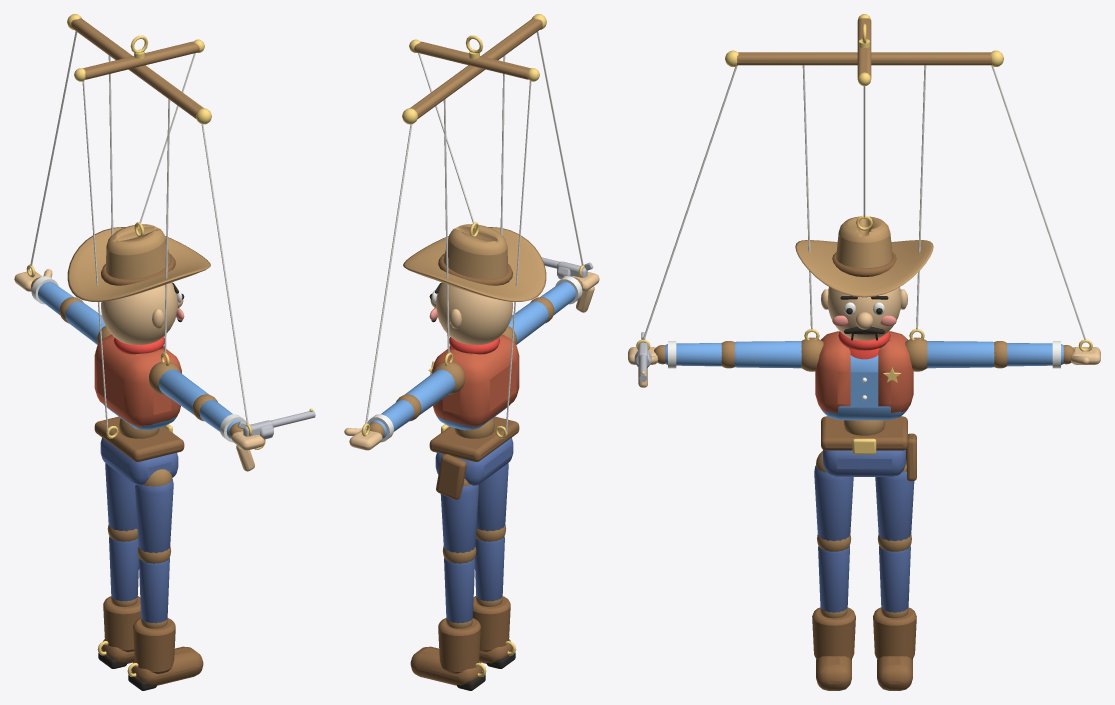
File: Kovboy.fbx
3 renders of one model, left to right at view 1: azimuth 30°, elevation 25°; view 2: azimuth 150°, elevation 25°; view 3: azimuth 270°, elevation 25°, orthographic.
Visible parts, largest first — view 1: Kovboy, Kovboy_Tutacak, Kovboy_Ipler, Kovboy_Altipatlar; view 2: Kovboy, Kovboy_Tutacak, Kovboy_Ipler, Kovboy_Altipatlar; view 3: Kovboy, Kovboy_Tutacak, Kovboy_Ipler.
Boxes of the visible parts, x1=… form: Kovboy: x1=14, y1=222, x2=264, y2=690; Kovboy_Tutacak: x1=67, y1=14, x2=211, y2=124; Kovboy_Ipler: x1=30, y1=31, x2=248, y2=431; Kovboy_Altipatlar: x1=236, y1=408, x2=315, y2=471; Kovboy: x1=344, y1=222, x2=599, y2=690; Kovboy_Tutacak: x1=402, y1=14, x2=546, y2=124; Kovboy_Ipler: x1=365, y1=31, x2=583, y2=431; Kovboy_Altipatlar: x1=541, y1=257, x2=594, y2=312; Kovboy: x1=628, y1=215, x2=1100, y2=690; Kovboy_Tutacak: x1=725, y1=14, x2=1003, y2=86; Kovboy_Ipler: x1=642, y1=65, x2=1086, y2=340.
Size of what is drawn, in the model's own units: 55.5 by 259 by 171.
